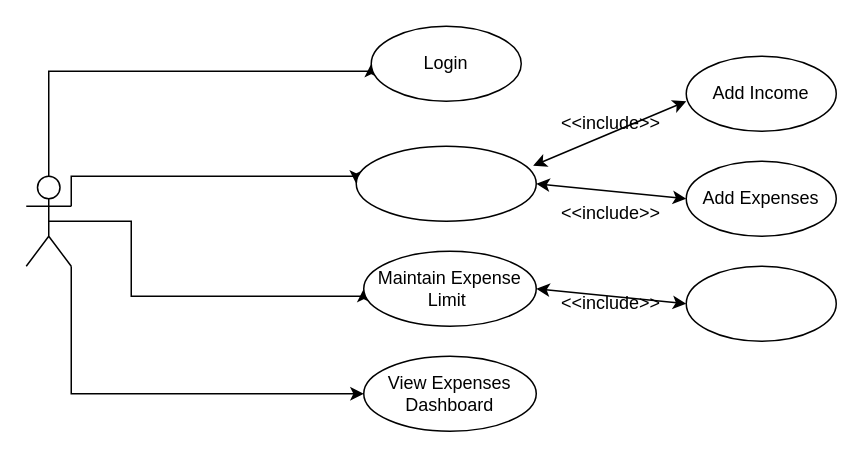
Some shapes in this 863 by 458 pixel diagram are drawn without their labels. Here are the shapes that lost their labels. From the top down, the centre of each, then its label:
At point 445,183: "Maintain Financial Activities".
At point 48,220: "User".
At point 760,303: "Set Limit".
